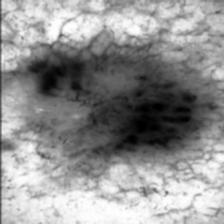Potentially Malignant Skin Tumors: (86, 78, 198, 162)
